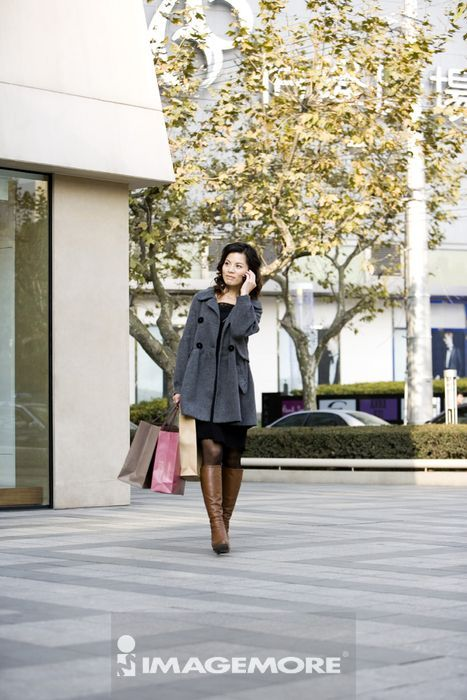talk: (220, 257, 257, 295)
